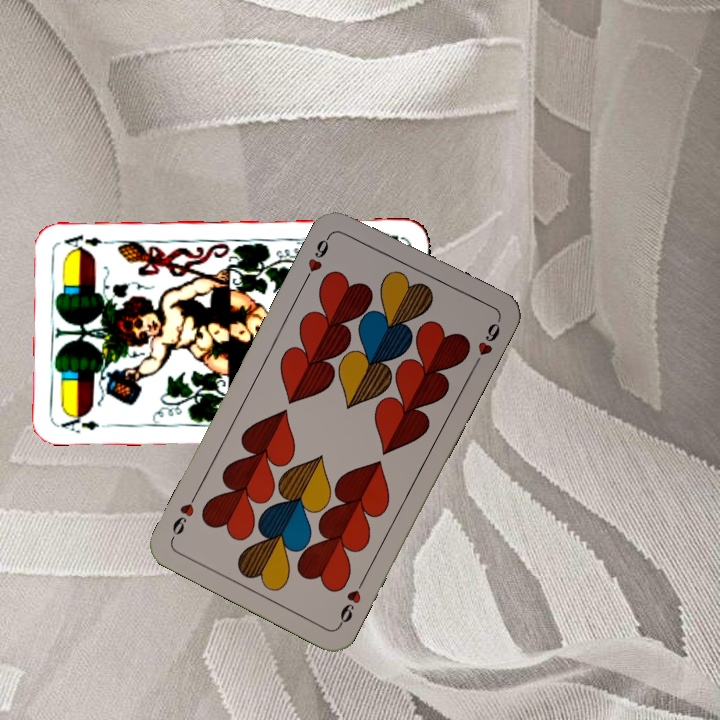EA: (57, 410, 115, 436)
H9: (300, 229, 334, 284), (335, 574, 368, 629)
